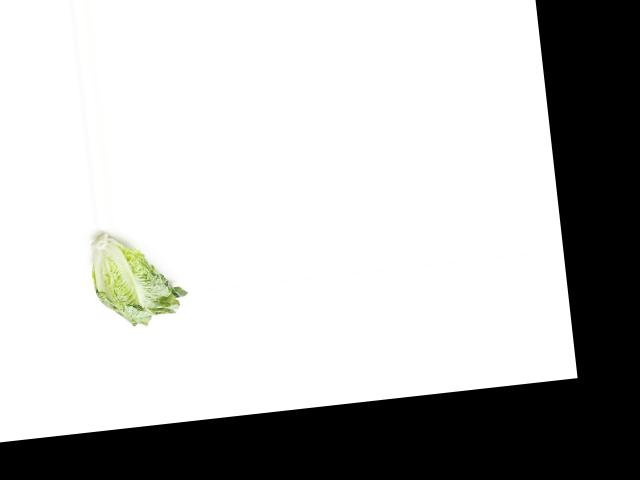lettuce: (85, 227, 190, 335)
